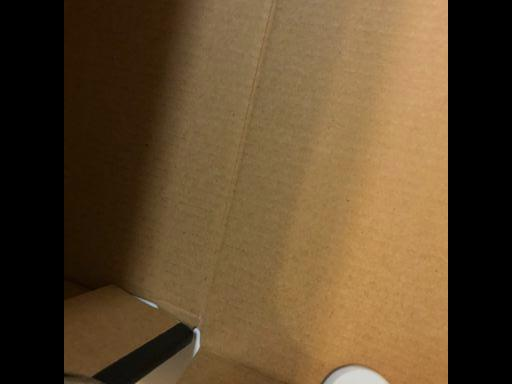cardboard: (70, 5, 444, 384)
